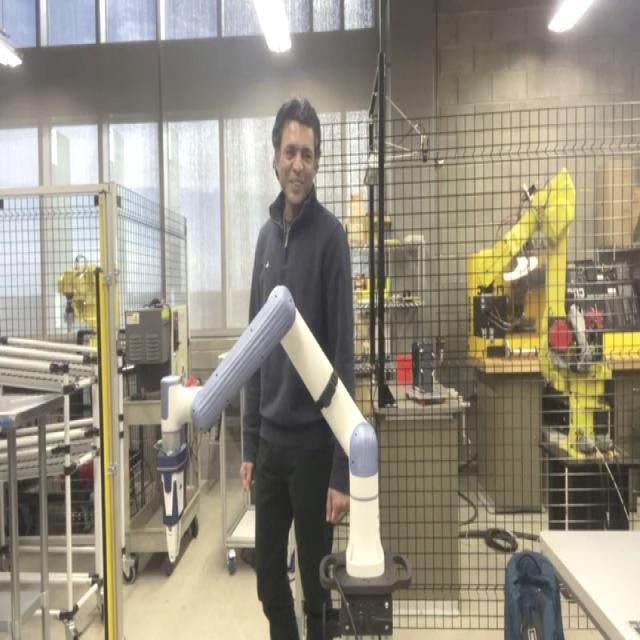robot: (154, 274, 395, 603)
